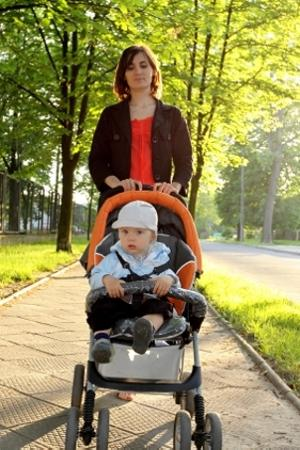person: (88, 46, 194, 403)
